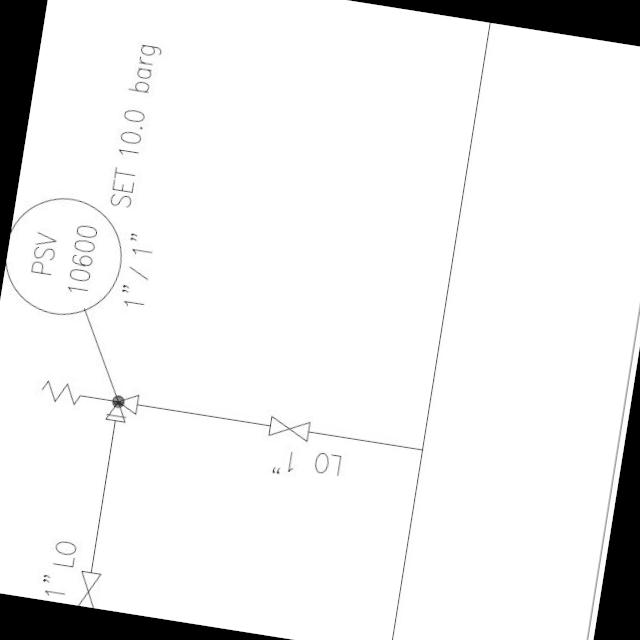GV: (264, 410, 318, 449), (69, 563, 104, 609)
RPV: (26, 371, 148, 431)
